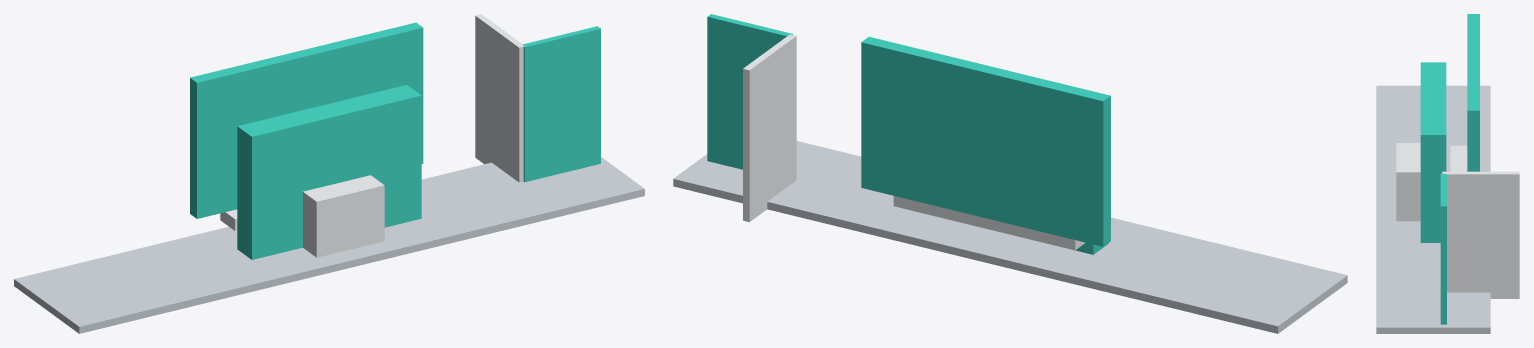
The picture shows the model from 3 angles, left to right: view 1: azimuth 30°, elevation 25°; view 2: azimuth 150°, elevation 25°; view 3: azimuth 270°, elevation 25°; orthographic projection. The views are drawn at different scales.
Visible parts, largest first — view 1: Exhibition Booth Concept; view 2: Exhibition Booth Concept; view 3: Exhibition Booth Concept.
Part boxes in pixels (<box>): Exhibition Booth Concept: <box>14,14,644,333</box>; Exhibition Booth Concept: <box>673,14,1347,333</box>; Exhibition Booth Concept: <box>1376,14,1519,333</box>.
Size of the model in its own units: 10 by 2.9 by 2.5.
